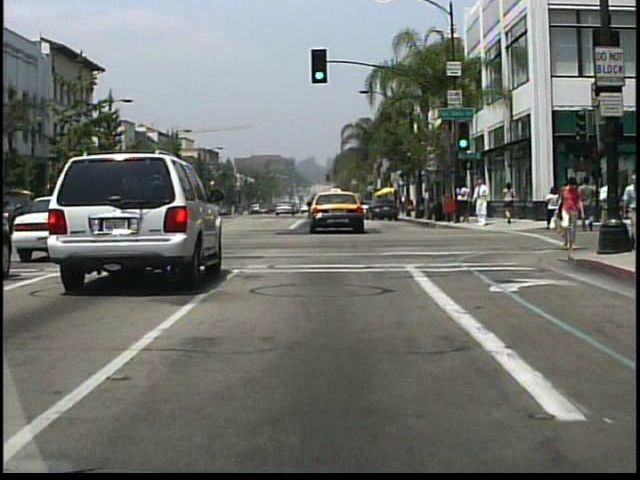person: (554, 176, 587, 251), (580, 174, 607, 242), (620, 177, 639, 242), (577, 177, 595, 233), (474, 179, 491, 227), (544, 185, 560, 230), (500, 181, 516, 225), (457, 179, 469, 224), (400, 193, 407, 213)
